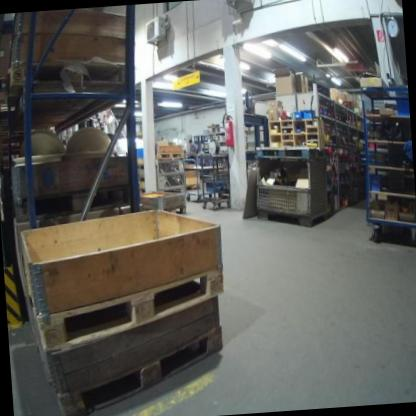pallet: (27, 264, 228, 353), (53, 325, 229, 416), (8, 54, 131, 95), (155, 150, 185, 162)
stillage: (253, 145, 335, 235), (152, 154, 191, 198)
